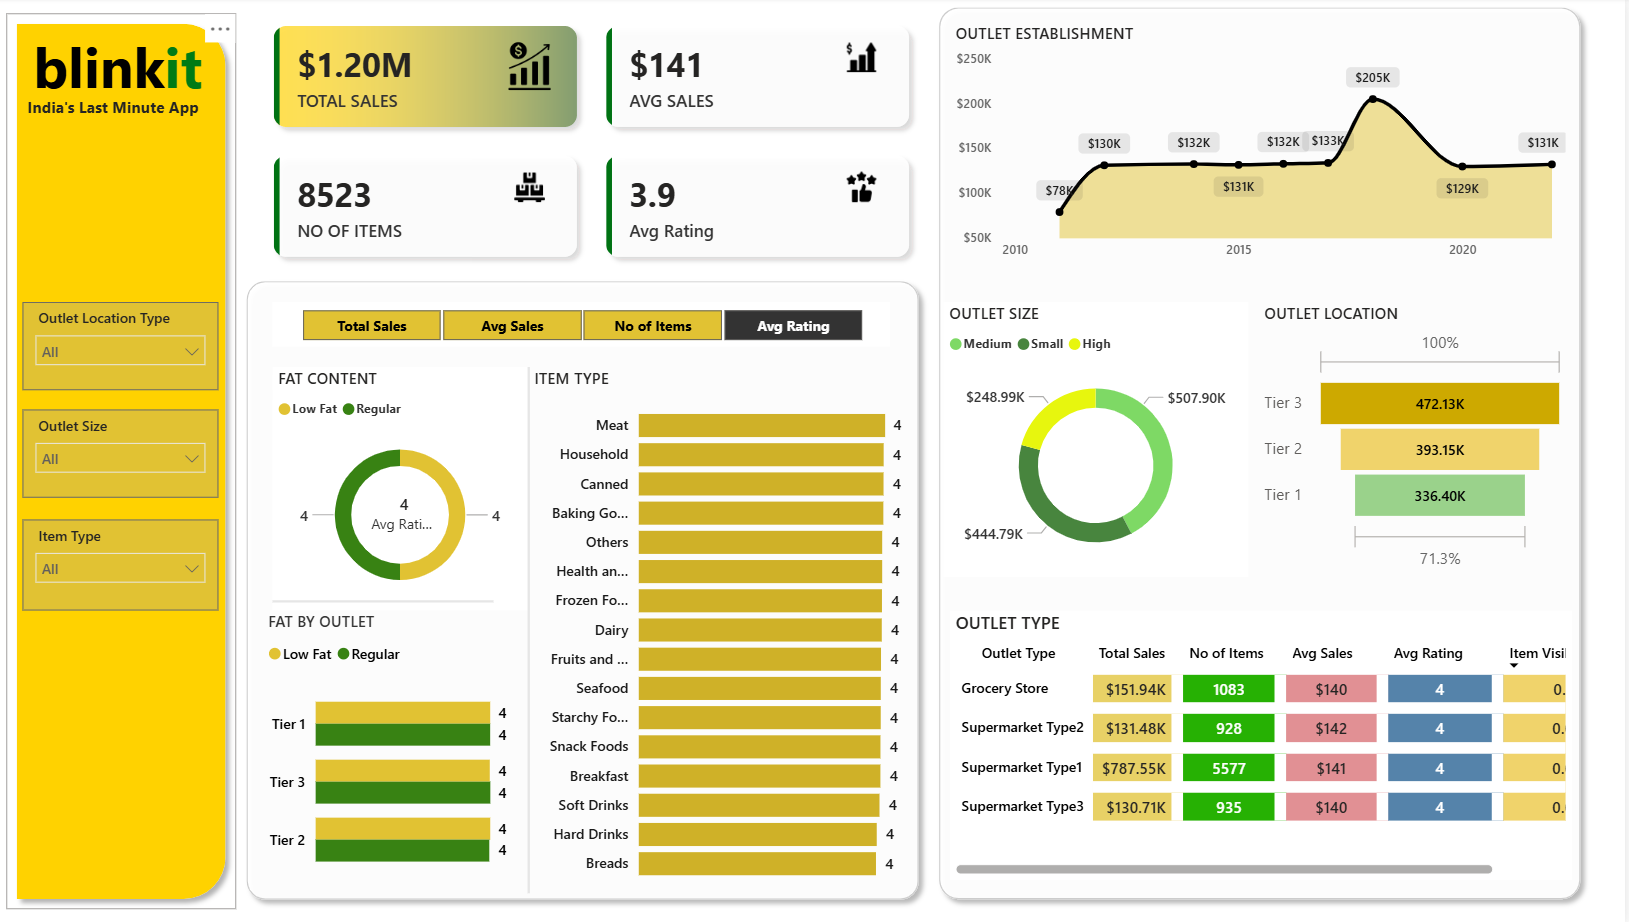

What the dashboard file says about the page in this screenshot:
{"tool":"powerbi","page":{"name":"Page 1","canvas":[1400,800],"ordinal":0},"visuals":[{"type":"shape","box":[5.2,14.4,197.9,772.1],"z":0},{"type":"textbox","box":[17.3,21.9,168.6,73.9],"z":1000},{"type":"textbox","box":[8.1,80.8,177.8,30],"z":2000},{"type":"cardVisual","fields":{"Data":["BlinkIT Grocery Data.Total Sales","BlinkIT Grocery Data.Avg Sales","BlinkIT Grocery Data.No of Items","BlinkIT Grocery Data.Avg Rating"]},"box":[211.3,0,597,249.4],"z":3000},{"type":"shape","box":[203.2,235.6,597,550.8],"z":4000},{"type":"donutChart","title":"FAT CONTENT","fields":{"Category":["BlinkIT Grocery Data.Item Fat Content"],"Y":["BlinkIT Grocery Data.Avg Rating"]},"box":[234.6,318.5,220.2,209.7],"z":5000},{"type":"slicer","fields":{"Values":["Metrics.Metrics"]},"box":[234.4,263.3,532.3,38.1],"z":6000},{"type":"cardVisual","fields":{"Data":["BlinkIT Grocery Data.Avg Rating"]},"box":[291,410.3,115.4,69.5],"z":7000},{"type":"clusteredBarChart","title":"FAT BY OUTLET","fields":{"Category":["BlinkIT Grocery Data.Outlet Location Type"],"Series":["BlinkIT Grocery Data.Item Fat Content"],"Y":["BlinkIT Grocery Data.Avg Rating"]},"box":[226.2,528.8,215.4,243.4],"z":8000},{"type":"shape","box":[234.4,512.7,190.5,16.2],"z":9000},{"type":"shape","box":[441.6,318.8,28,453.4],"z":10000},{"type":"barChart","title":"ITEM TYPE","fields":{"Category":["BlinkIT Grocery Data.Item Type"],"Y":["BlinkIT Grocery Data.Avg Rating"]},"box":[455.6,318.8,326.3,453.4],"z":11000},{"type":"shape","box":[800.2,0,570.4,786.4],"z":12000},{"type":"lineChart","title":"OUTLET ESTABLISHMENT","fields":{"Category":["BlinkIT Grocery Data.Outlet Establishment Year"],"Y":["BlinkIT Grocery Data.Total Sales"]},"box":[818.7,21.9,535.8,213.6],"z":13000},{"type":"donutChart","title":"OUTLET SIZE","fields":{"Category":["BlinkIT Grocery Data.Outlet Size"],"Y":["BlinkIT Grocery Data.Total Sales"]},"box":[812.9,263.3,262.1,236.7],"z":14000},{"type":"funnel","title":"OUTLET LOCATION","fields":{"Category":["BlinkIT Grocery Data.Outlet Location Type"],"Y":["Sum(BlinkIT Grocery Data.Sales)"]},"box":[1084.3,263.3,269.1,236.7],"z":15000},{"type":"pivotTable","title":"OUTLET TYPE","fields":{"Rows":["BlinkIT Grocery Data.Outlet Type"],"Values":["BlinkIT Grocery Data.Total Sales","BlinkIT Grocery Data.No of Items","BlinkIT Grocery Data.Avg Sales","BlinkIT Grocery Data.Avg Rating","Avg(BlinkIT Grocery Data.Item Visibility)"]},"box":[818.7,528.9,535.8,232.1],"z":16000},{"type":"slicer","fields":{"Values":["BlinkIT Grocery Data.Outlet Location Type"]},"box":[19.6,263.3,168.6,76.2],"z":16001},{"type":"slicer","fields":{"Values":["BlinkIT Grocery Data.Outlet Size"]},"box":[19.6,355.7,168.6,76.2],"z":16002},{"type":"slicer","fields":{"Values":["BlinkIT Grocery Data.Item Type"]},"box":[19.6,450.3,168.6,78.5],"z":16003}]}

Visuals, with their boxes in screenshot pixels (x1, y1, x2, y2), scaled from the page's 1400x800 canvas onto the 1629x922 screenshot:
shape: region(6, 17, 236, 906)
textbox: region(20, 25, 216, 110)
textbox: region(9, 93, 216, 128)
cardVisual - BlinkIT Grocery Data.Total Sales x BlinkIT Grocery Data.Avg Sales: region(246, 0, 941, 287)
shape: region(236, 272, 931, 906)
"FAT CONTENT" donutChart: region(273, 367, 529, 609)
slicer - Metrics.Metrics: region(273, 303, 892, 347)
cardVisual - BlinkIT Grocery Data.Avg Rating: region(339, 473, 473, 553)
"FAT BY OUTLET" clusteredBarChart: region(263, 609, 514, 890)
shape: region(273, 591, 494, 610)
shape: region(514, 367, 546, 890)
"ITEM TYPE" barChart: region(530, 367, 910, 890)
shape: region(931, 0, 1595, 906)
"OUTLET ESTABLISHMENT" lineChart: region(953, 25, 1576, 271)
"OUTLET SIZE" donutChart: region(946, 303, 1251, 576)
"OUTLET LOCATION" funnel: region(1262, 303, 1575, 576)
"OUTLET TYPE" pivotTable: region(953, 610, 1576, 877)
slicer - BlinkIT Grocery Data.Outlet Location Type: region(23, 303, 219, 391)
slicer - BlinkIT Grocery Data.Outlet Size: region(23, 410, 219, 498)
slicer - BlinkIT Grocery Data.Item Type: region(23, 519, 219, 609)
